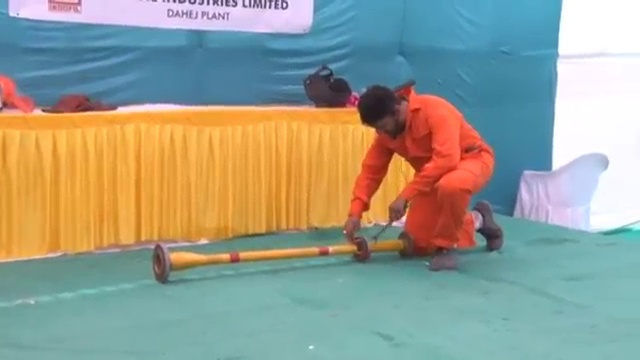helmet_off: (356, 84, 408, 134)
person: (345, 81, 504, 259)
